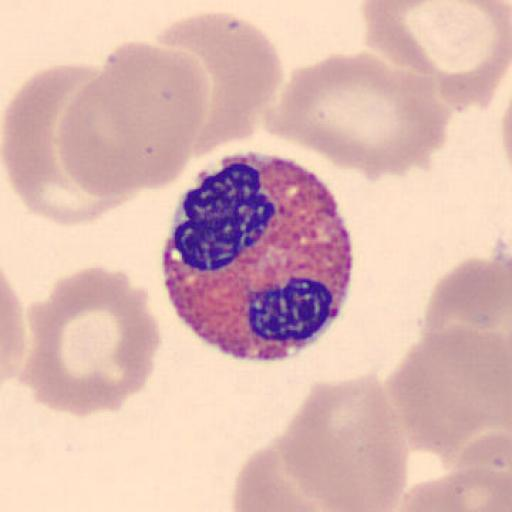RBC: (263, 50, 451, 183), (0, 60, 131, 226), (23, 263, 162, 418), (82, 40, 210, 193), (156, 10, 285, 154), (280, 371, 408, 512), (384, 325, 512, 459), (362, 0, 510, 114), (57, 68, 155, 198), (421, 255, 512, 373), (230, 433, 343, 512), (388, 467, 511, 512), (448, 432, 512, 510), (0, 268, 26, 386)
WBC: (162, 154, 356, 362)
